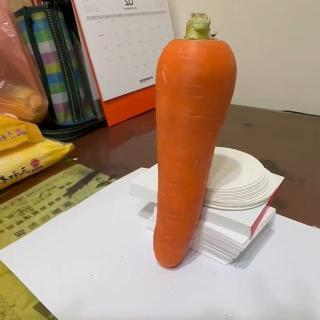carrot: (153, 12, 237, 270)
